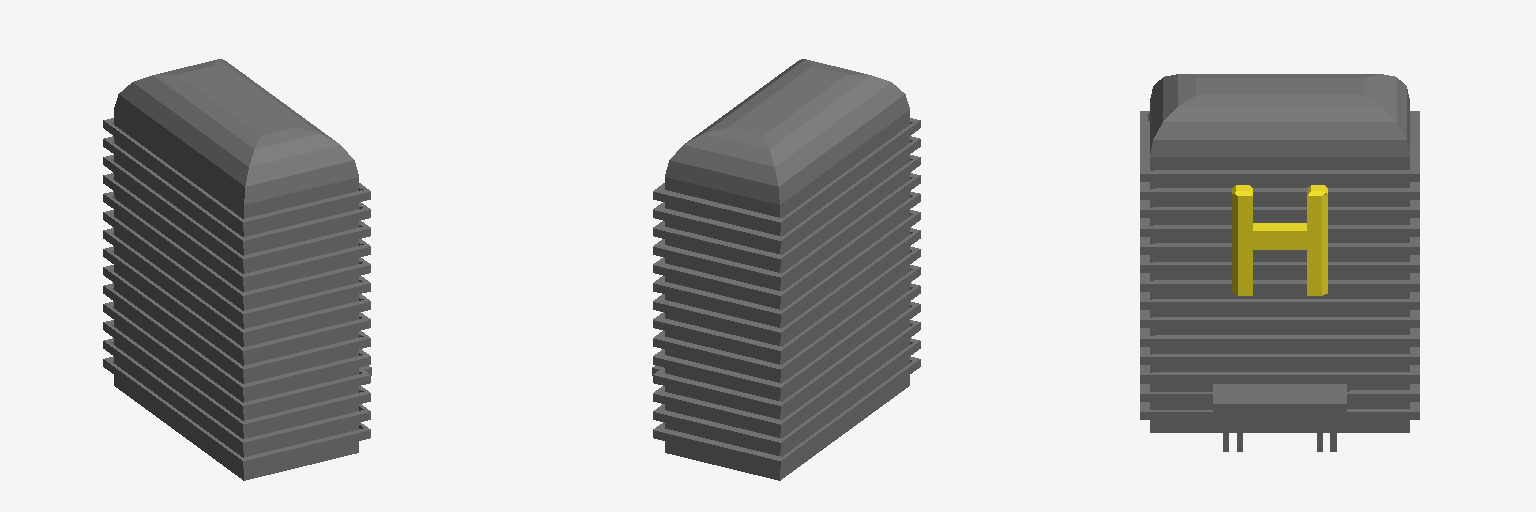
Rendered from hanzo.obj.
The picture shows the model from 3 angles: view 1: azimuth 30°, elevation 25°; view 2: azimuth 150°, elevation 25°; view 3: azimuth 270°, elevation 25°; orthographic projection.
Visible parts, largest first — view 1: pCube31; view 2: pCube31; view 3: pCube31, pCube5.
Part boxes in pixels (left/top/right/bottom): pCube31: left=103, top=59, right=371, bottom=480; pCube31: left=652, top=59, right=920, bottom=480; pCube31: left=1140, top=74, right=1419, bottom=451; pCube5: left=1232, top=185, right=1327, bottom=295.
Size of the model in its own units: 1.43 by 2.65 by 2.1.